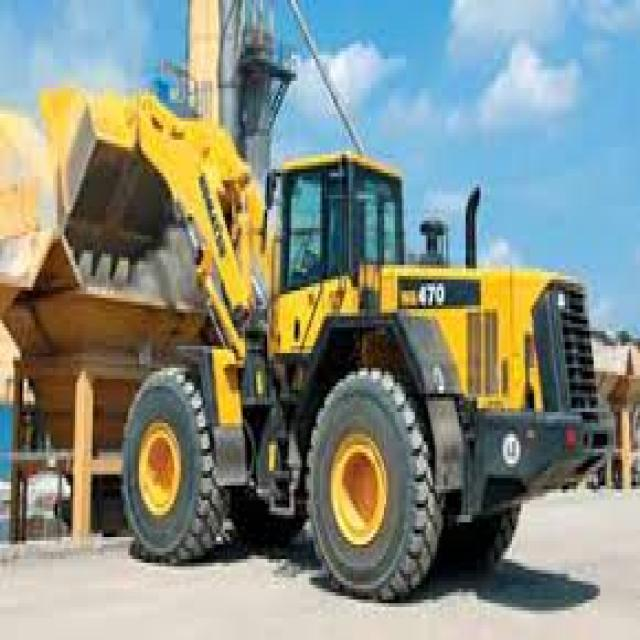buldozerpayloadergrader: (55, 90, 608, 595)
